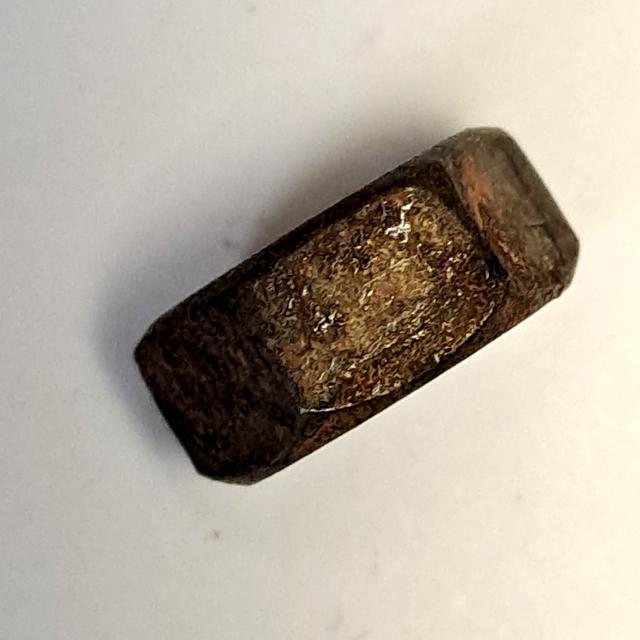Side_Rust: (128, 113, 586, 506)
